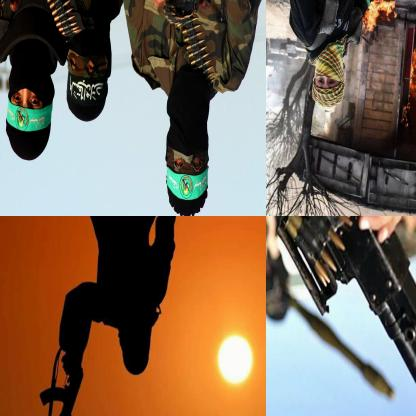rifle: (266, 216, 415, 415), (34, 354, 89, 415)
